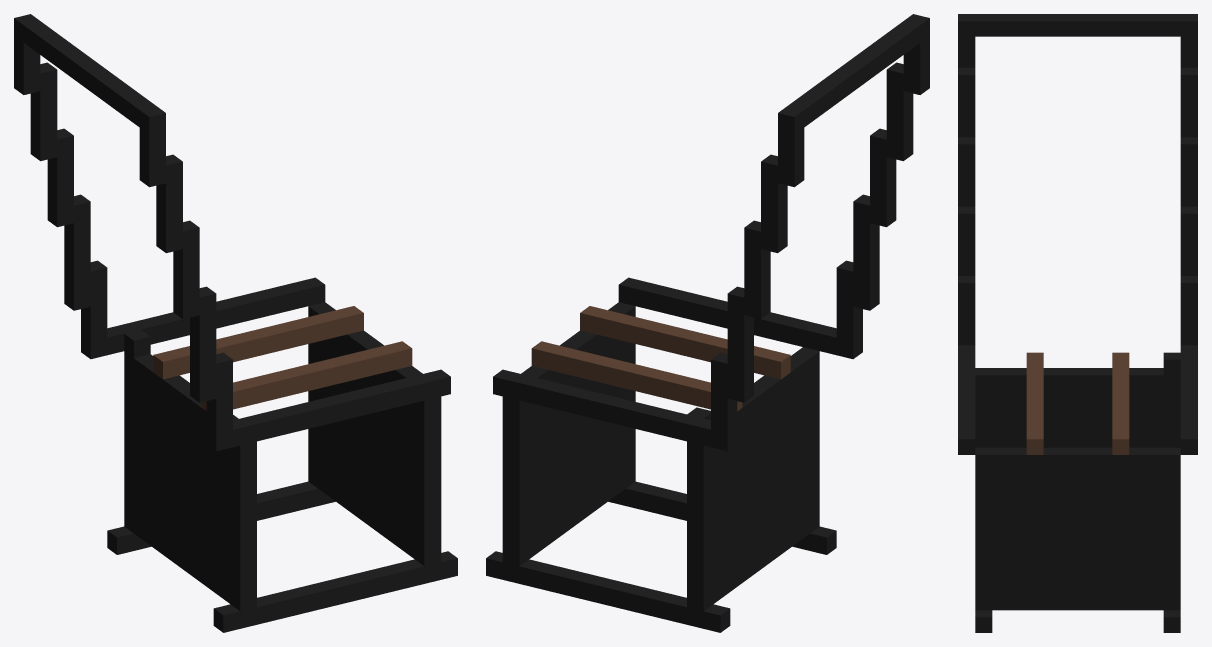
File: burnt_out_van_seat_frame.glb
3 views of the same model, side by side, from view 1: azimuth 30°, elevation 25°; view 2: azimuth 150°, elevation 25°; view 3: azimuth 270°, elevation 25° (orthographic). The views are drawn at different scales.
Parts seen in each view (by area): view 1: body:compound; view 2: body:compound; view 3: body:compound.
Boxes of the visible parts, x1=… form: body:compound: x1=14, y1=14, x2=457, y2=632; body:compound: x1=486, y1=14, x2=929, y2=632; body:compound: x1=958, y1=14, x2=1197, y2=632.
Bounding box in the file's own units: 0.5938 × 0.9688 × 0.4375.
